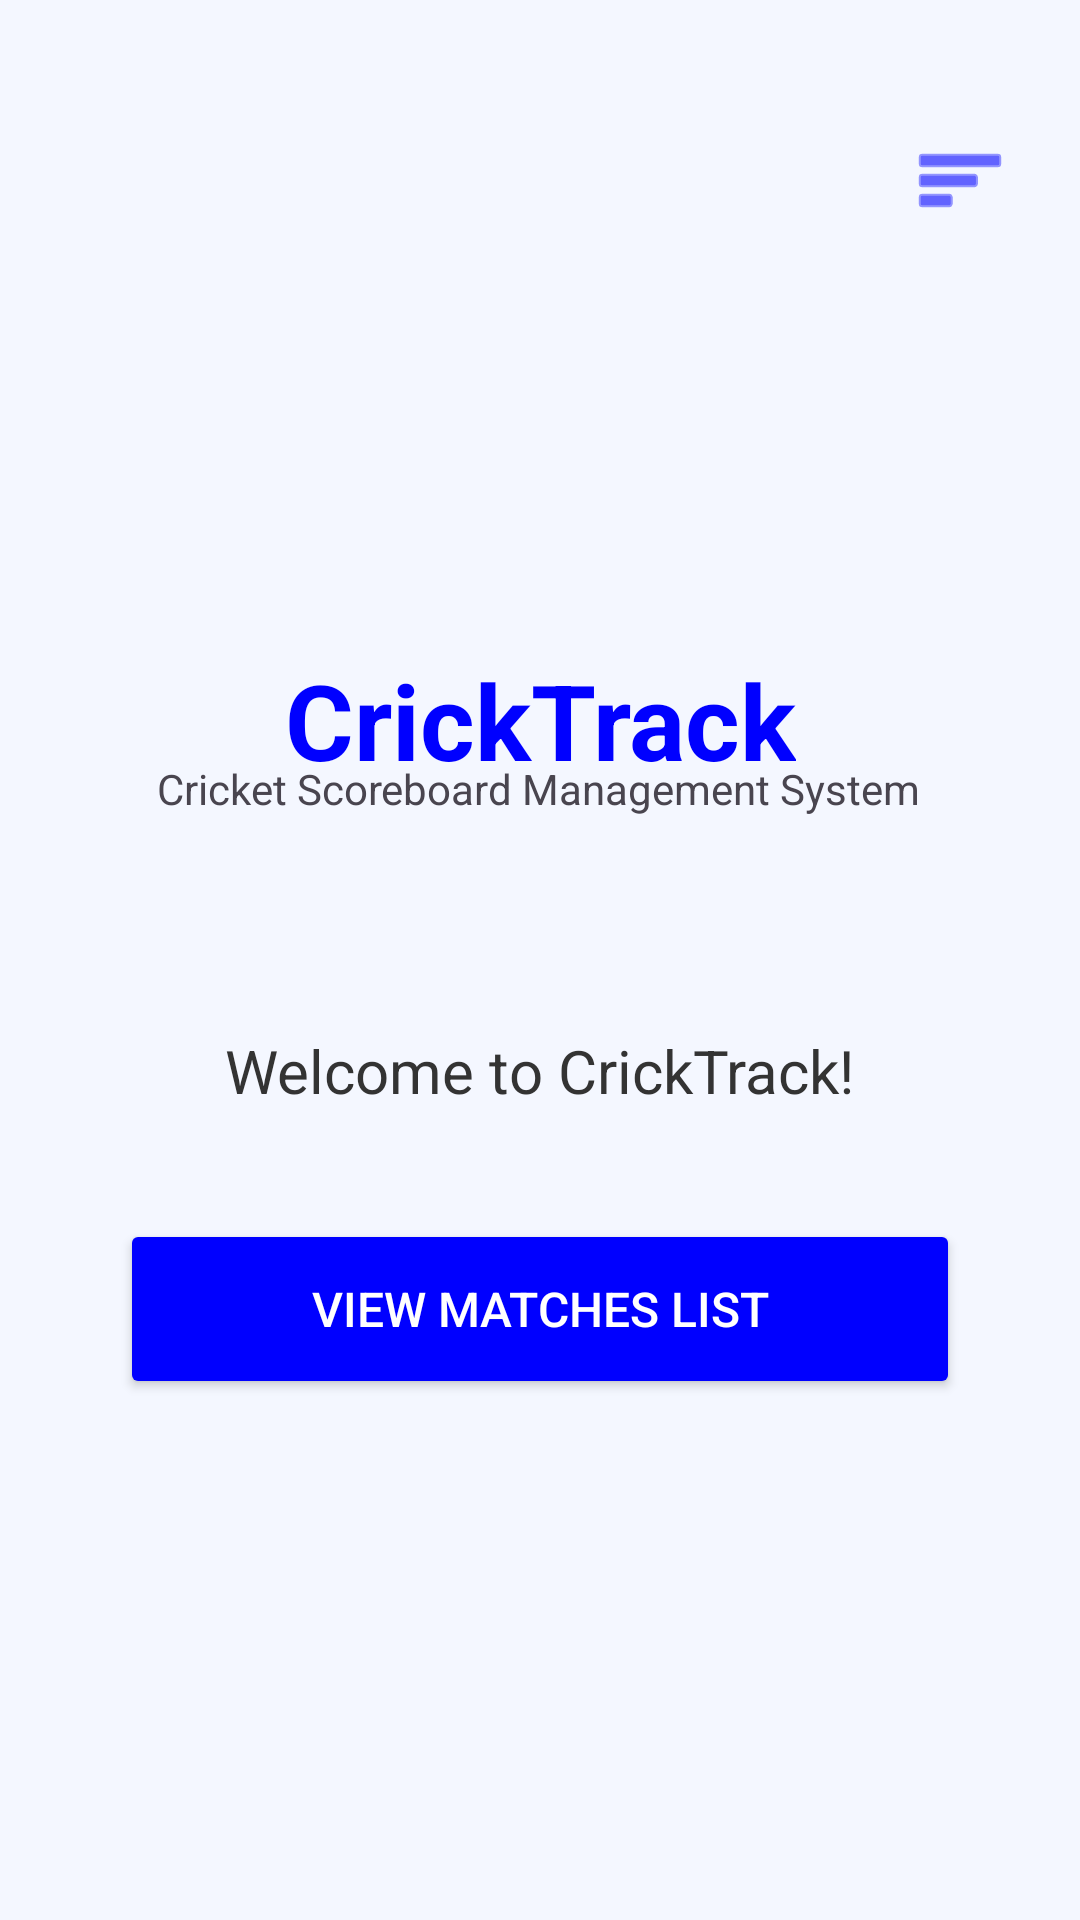

Where icons sit on this 1080×1920 app screen, as (x1, y1, x2, y2):
Menu: (919, 154, 1001, 207)
